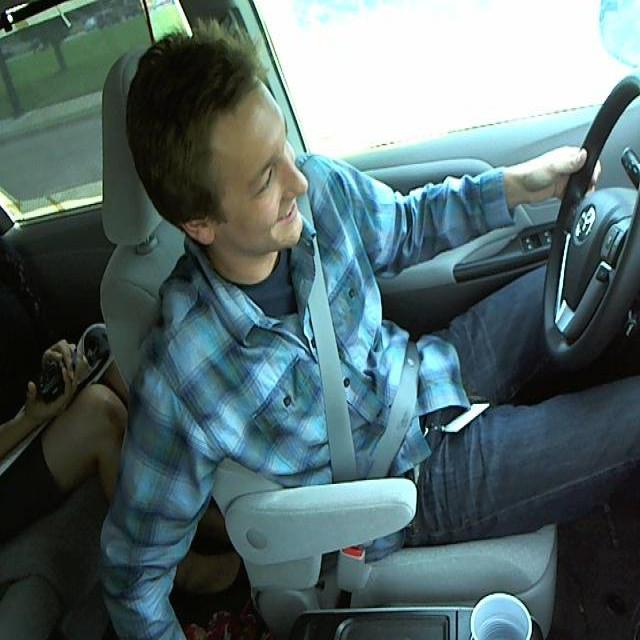seatbelt: (296, 220, 419, 471)
